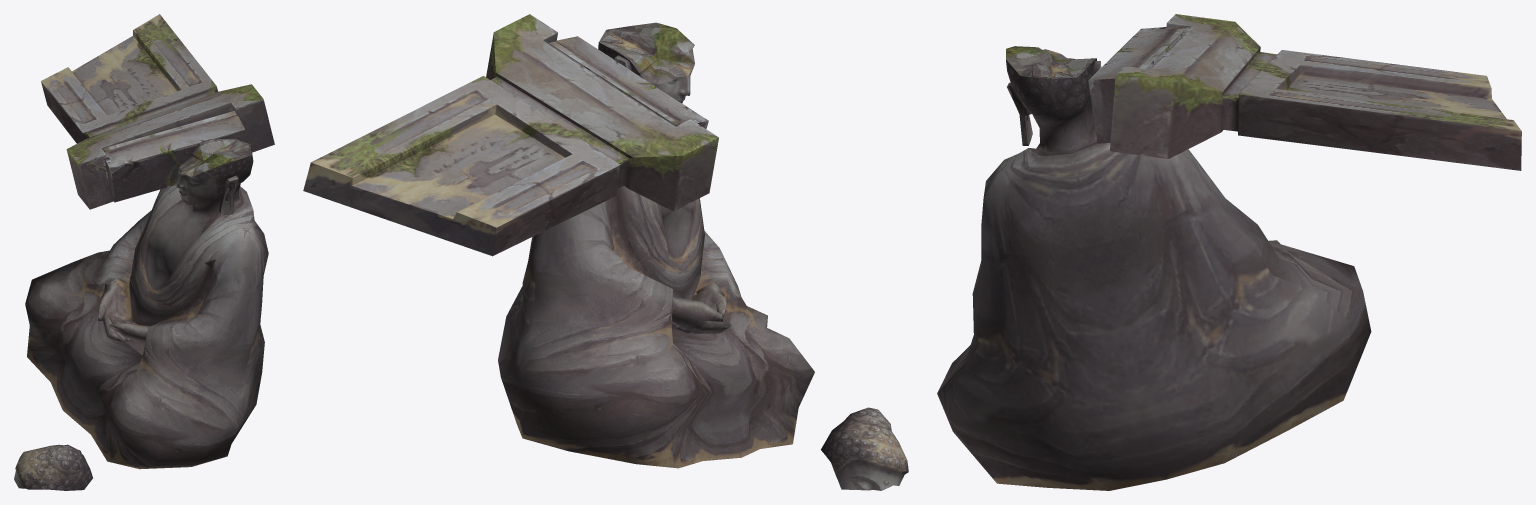
3 renders of one model, left to right at view 1: azimuth 30°, elevation 25°; view 2: azimuth 150°, elevation 25°; view 3: azimuth 270°, elevation 25°, orthographic. The views are drawn at different scales.
Visible parts, largest first — view 1: 58021; view 2: 58021; view 3: 58021.
Boxes of the visible parts, x1,y1,x2,y2 form: 58021: [14, 14, 274, 490]; 58021: [303, 14, 908, 490]; 58021: [937, 14, 1521, 490].
Bounding box in the file's own units: 524 × 512 × 584.
